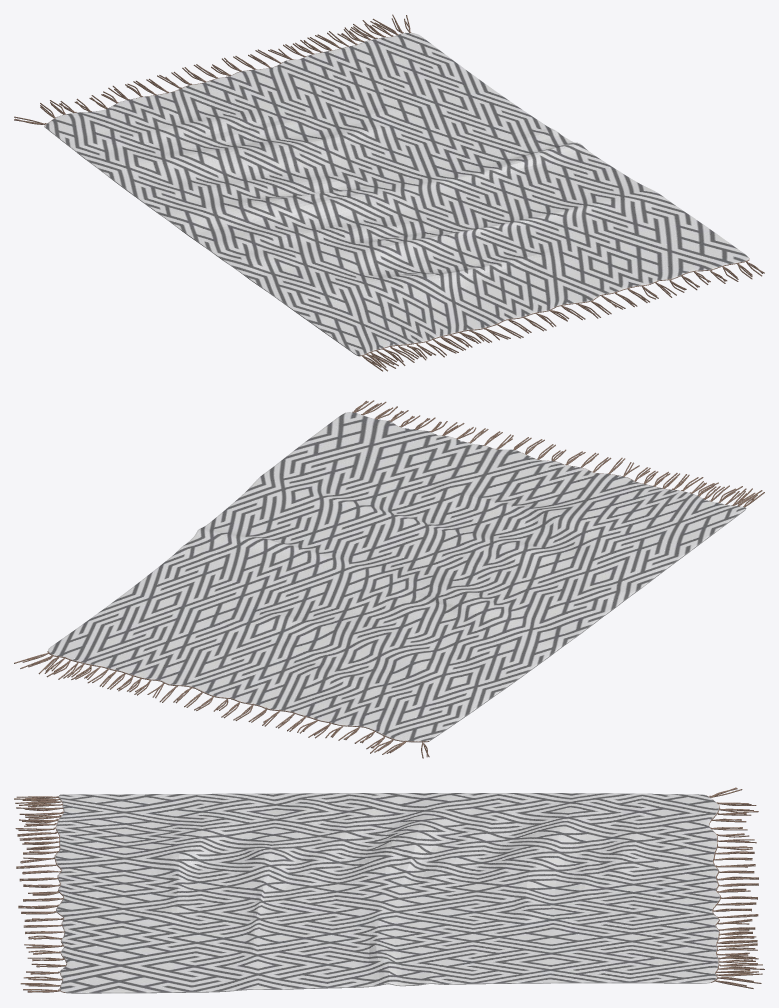
File: Carpet N090122.obj
3 renders of one model, top to bottom at view 1: azimuth 30°, elevation 25°; view 2: azimuth 150°, elevation 25°; view 3: azimuth 270°, elevation 25°, orthographic. The views are drawn at different scales.
Visible parts, largest first — view 1: Box007, Line038, Line039, Shape001; view 2: Box007, Line039, Line038, Shape001; view 3: Box007, Line038, Line039, Shape001.
Boxes of the visible parts, box(x1,y1,x2,y2) form: Box007: box(44, 33, 748, 356); Line038: box(362, 262, 764, 371); Line039: box(14, 14, 410, 124); Shape001: box(44, 32, 749, 356); Box007: box(48, 412, 746, 741); Line039: box(14, 653, 429, 758); Line038: box(354, 400, 764, 506); Shape001: box(47, 424, 681, 742); Box007: box(55, 793, 719, 993); Line038: box(14, 796, 64, 992); Line039: box(710, 787, 764, 988); Shape001: box(54, 795, 720, 992).
Bounding box in the file's own units: 1519 × 28.56 × 2341.
